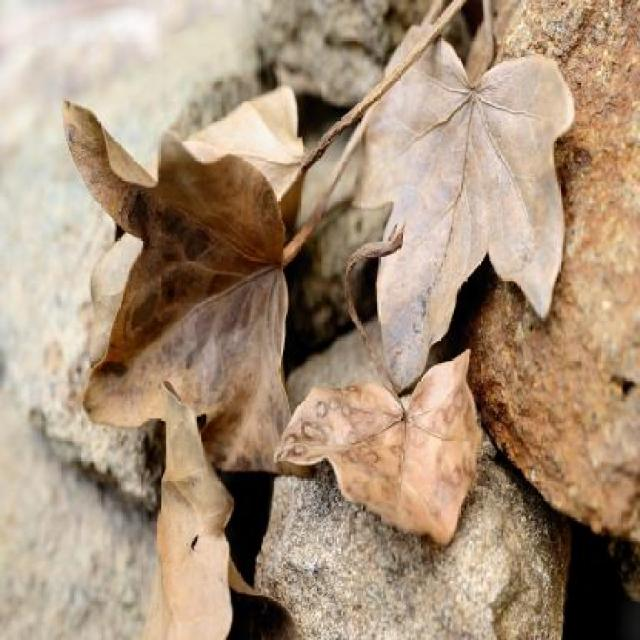organic waste: (47, 80, 316, 465), (345, 26, 581, 389), (274, 312, 484, 551), (137, 377, 296, 640)
